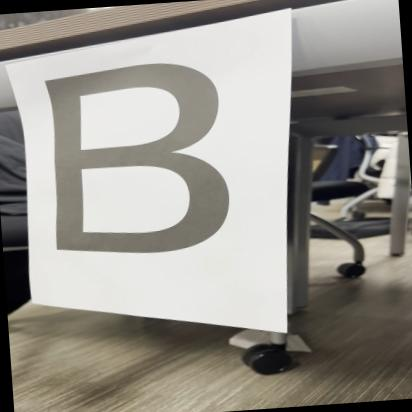seat: (35, 52, 264, 274)
